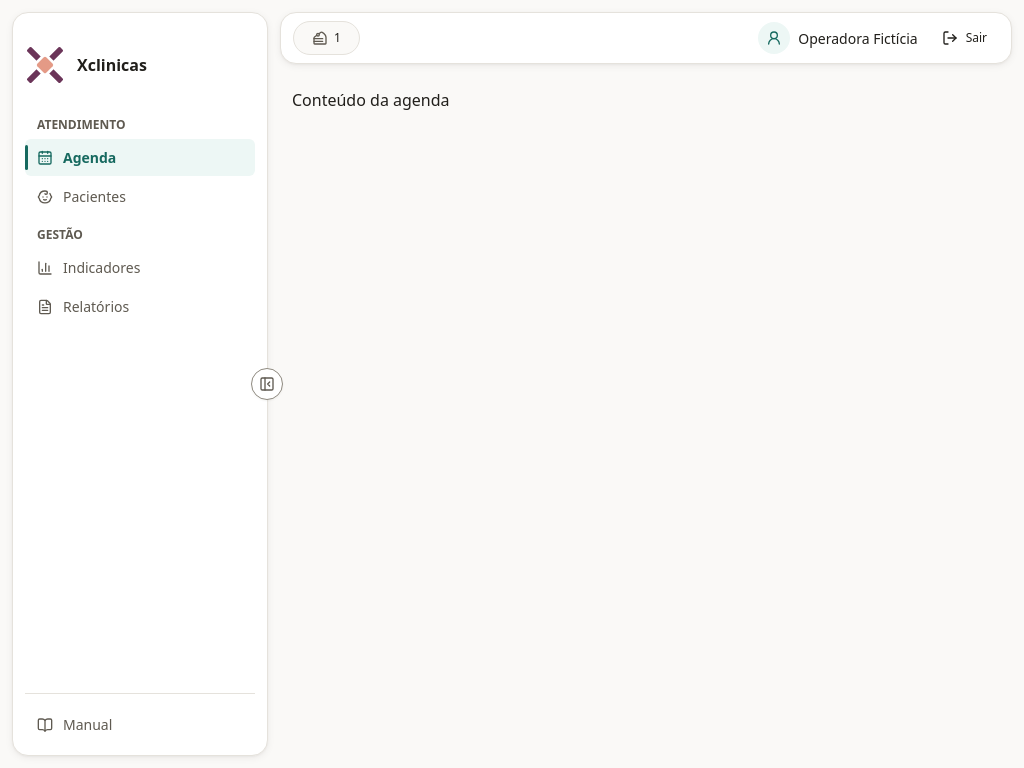
Test case: AppShell — painéis de notificação › deve abrir o painel de aniversariantes com dia e nome levando à ficha
Click the button named "Aniversariantes".
click(326, 38)  # box [304,26,349,50]
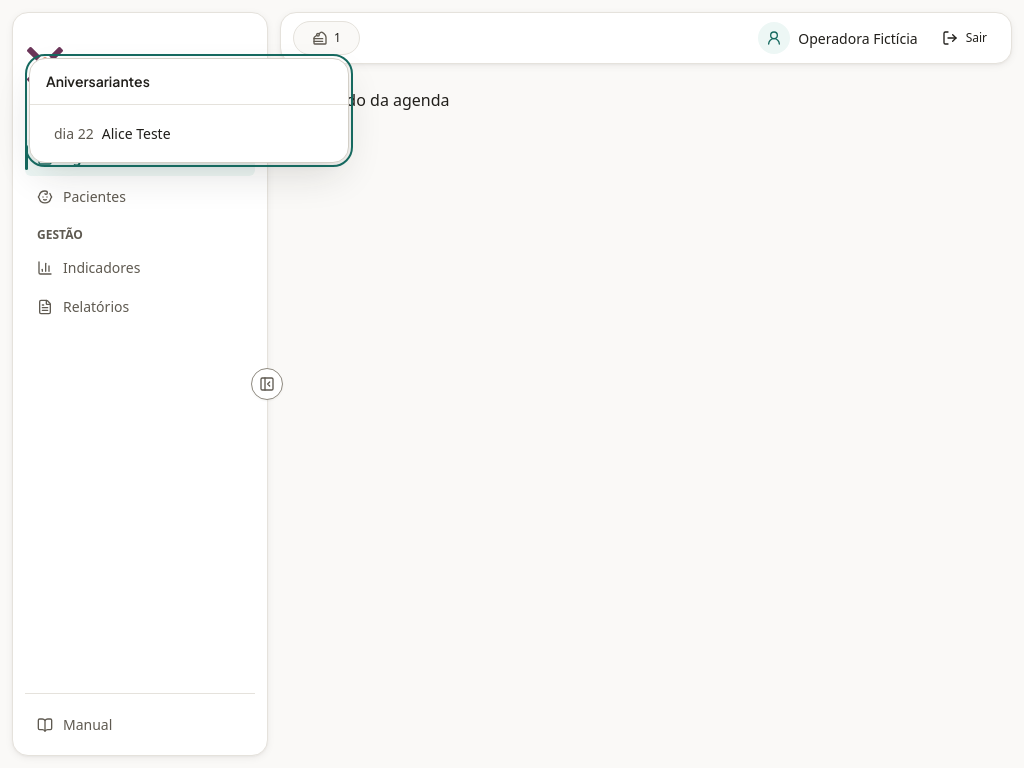
Now the dialog "Aniversariantes" shows "dia 22", box [29,58,349,163]
